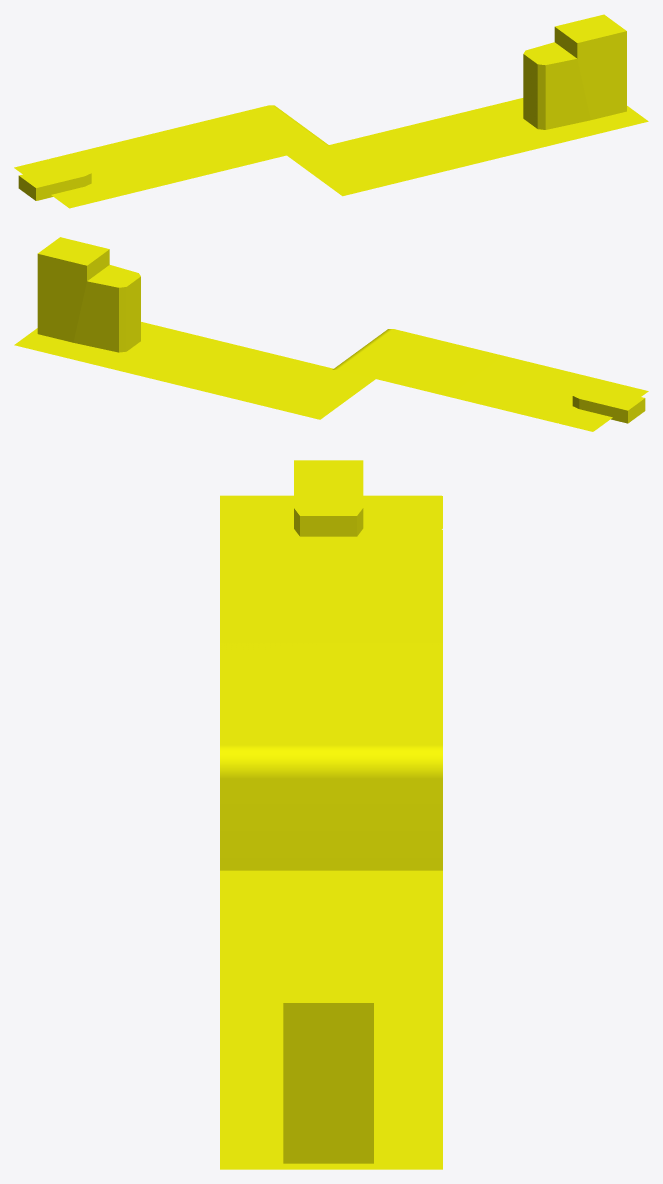
File: mg0101_fld0_col.glb
The picture shows the model from 3 angles, top to bottom: view 1: azimuth 30°, elevation 25°; view 2: azimuth 150°, elevation 25°; view 3: azimuth 270°, elevation 25°; orthographic projection. The views are drawn at different scales.
Visible parts, largest first — view 1: pCube243__lambert1__mesh; view 2: pCube243__lambert1__mesh; view 3: pCube243__lambert1__mesh.
Boxes of the visible parts, left/top/right/bottom form: pCube243__lambert1__mesh: left=14, top=14, right=648, bottom=208; pCube243__lambert1__mesh: left=14, top=237, right=648, bottom=431; pCube243__lambert1__mesh: left=220, top=460, right=442, bottom=1169.
Bounding box in the file's own units: 240 × 32 × 39.03.
